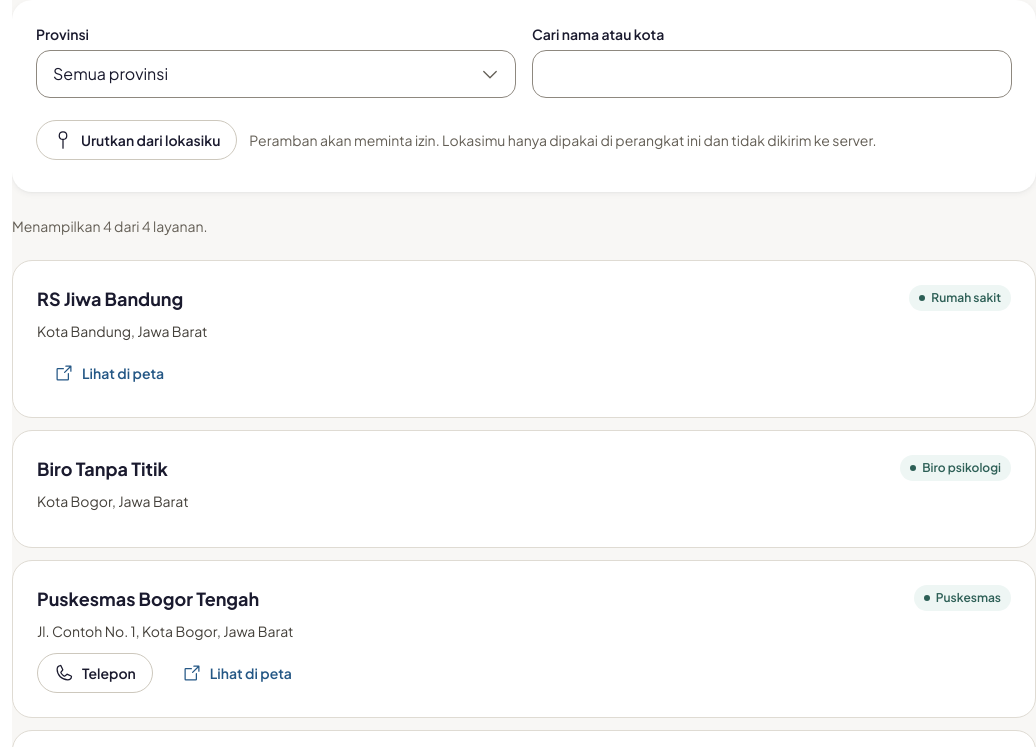
FacilityDirectory › lokasi › diizinkan: diurutkan dari terdekat, jarak tampil, catatan privasi, dan bisa dihapus
Click the button "Urutkan dari lokasiku": (137,140) [36,120,237,160]
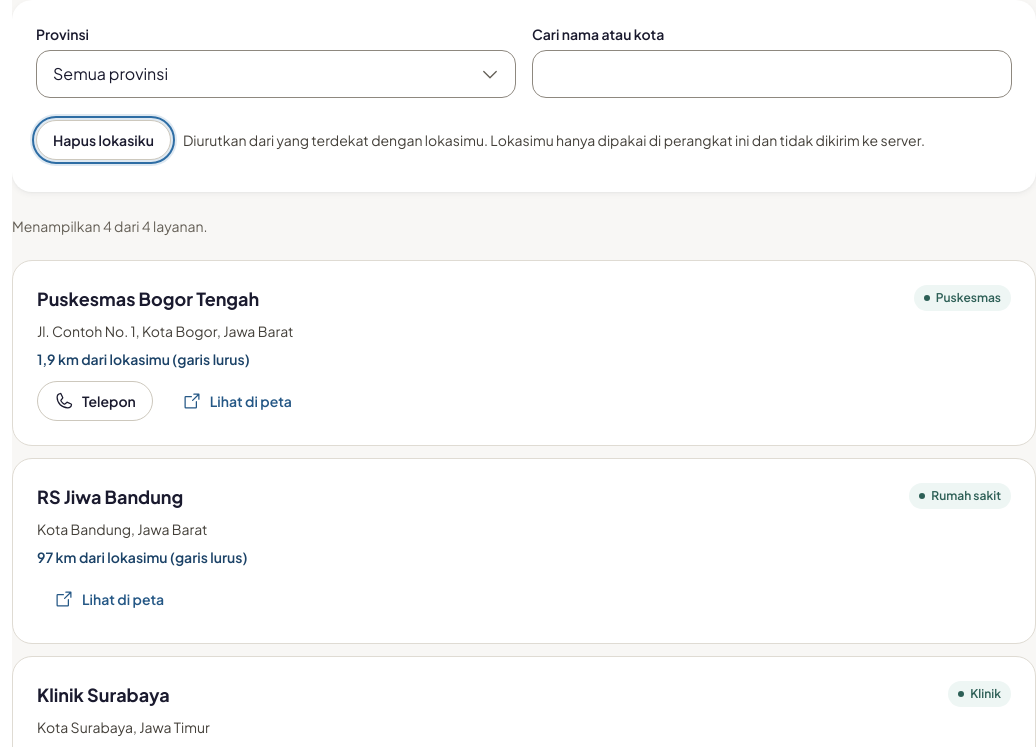
Expected: the text "tidak dikirim ke server" is shown, [183,131,925,149]
Now the text "1,9 km dari lokasimu (garis lurus)" is shown, box [37,350,250,368]
Click the button "Hapus lokasiku": (103,140) [36,120,171,160]
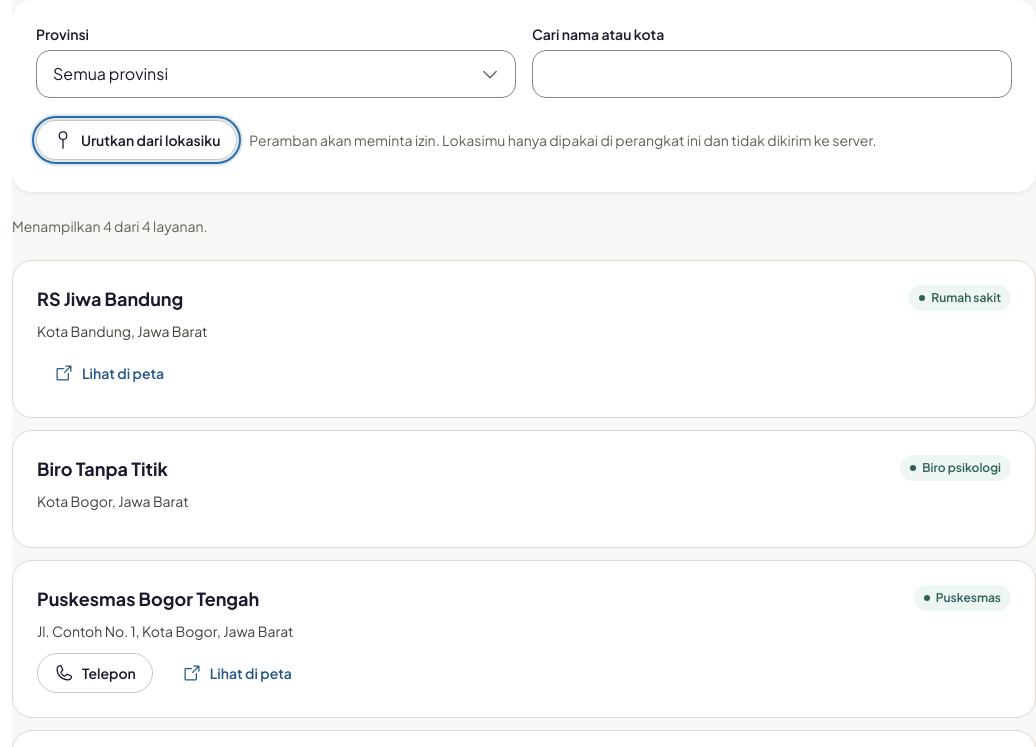
Expected: the heading "RS Jiwa Bandung" is shown, [37,285,183,313]
Now the text "dari lokasimu (garis lurus)" is gone
Now the button "Urutkan dari lokasiku" is shown, box [36,120,237,160]
